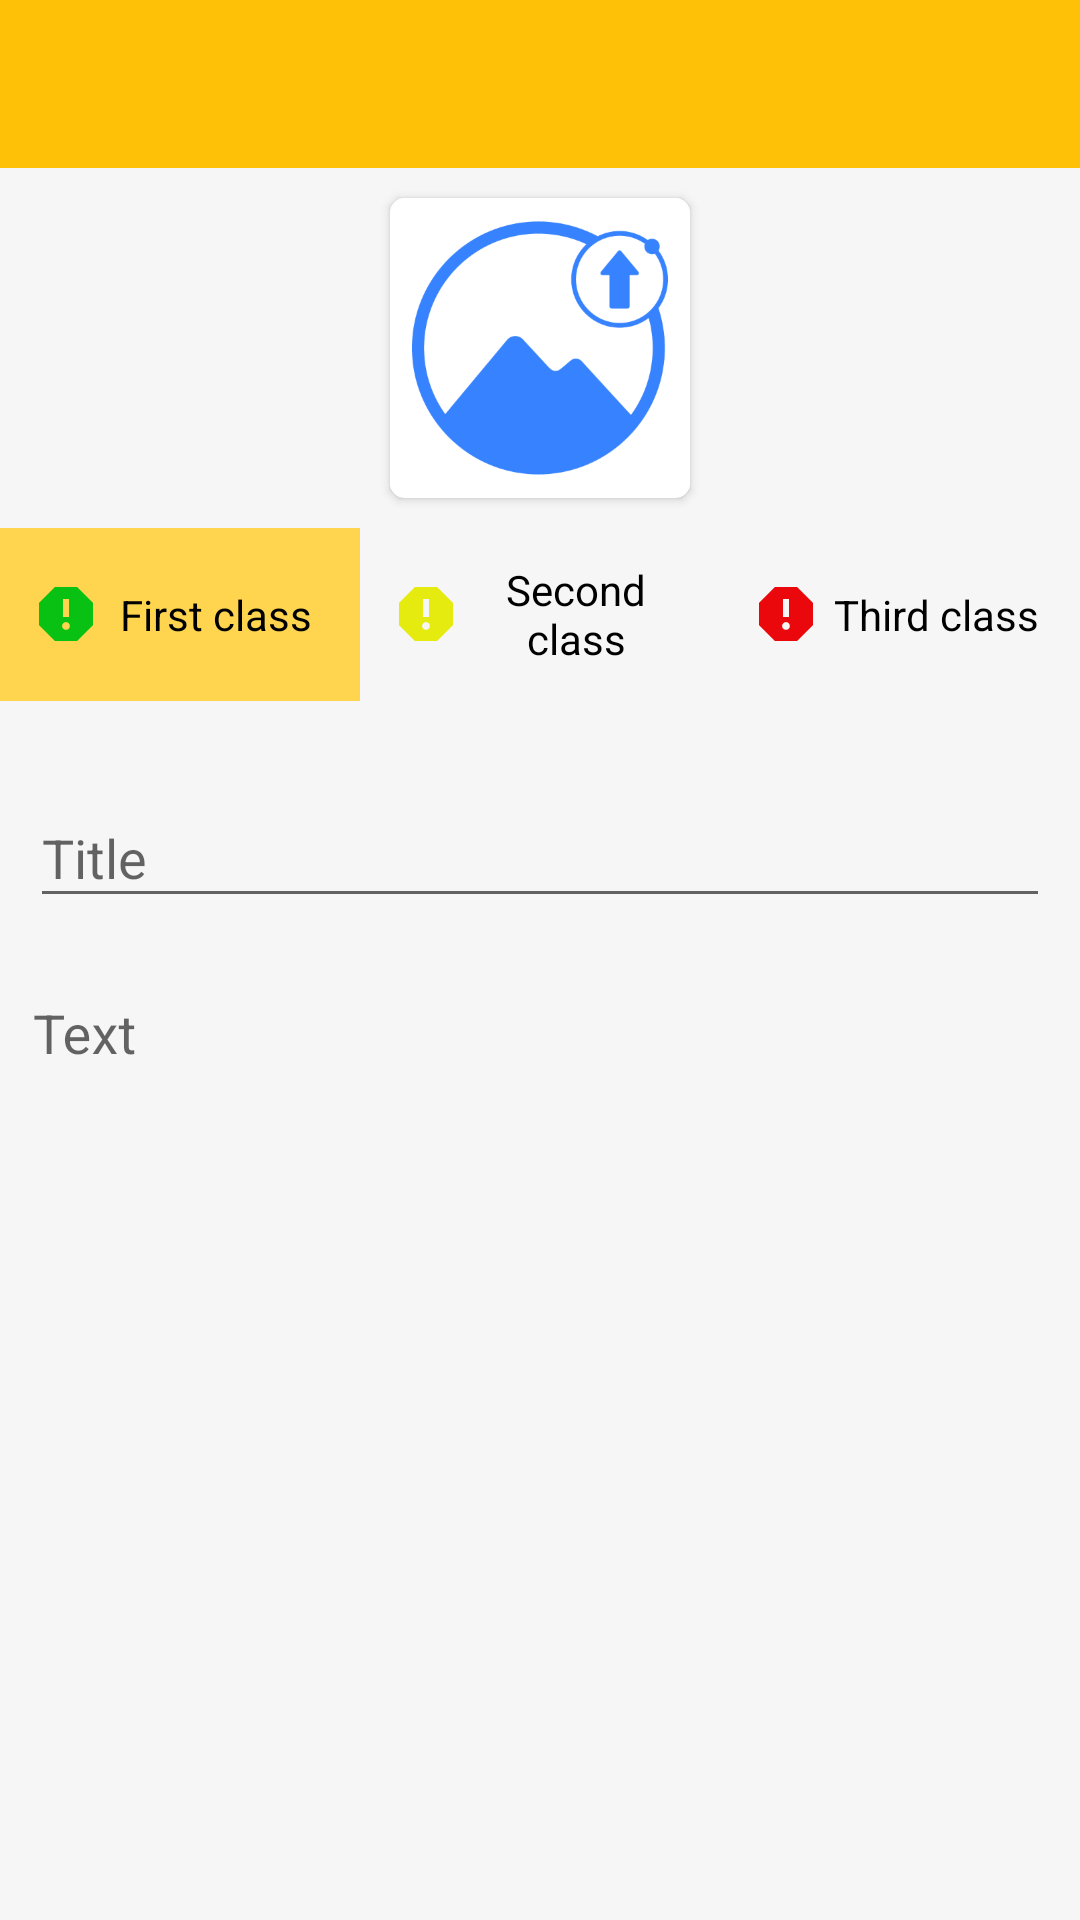

Named icons in this screenshot (1080 x 1920) and their bounding boxes, (x1, y1, x2, y2):
upload: (390, 198, 690, 498)
